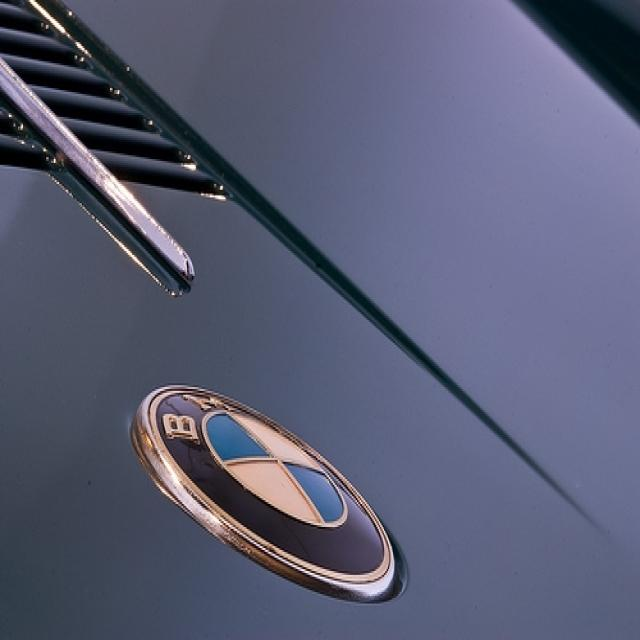bmw: (132, 379, 404, 607)
